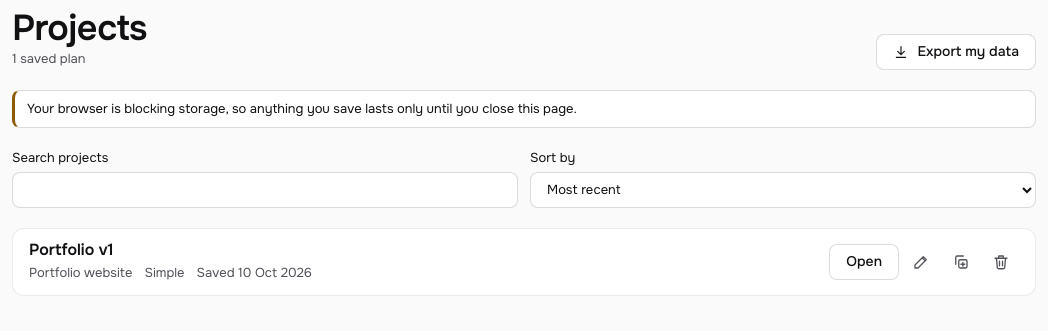
Test: Projects page › cancels a rename with Escape
Expected: the link "Portfolio v1" is shown, top-left (29, 239), bottom-right (114, 260)
Click the button named "Rename Portfolio v1": (921,262) top-left (903, 244), bottom-right (939, 280)
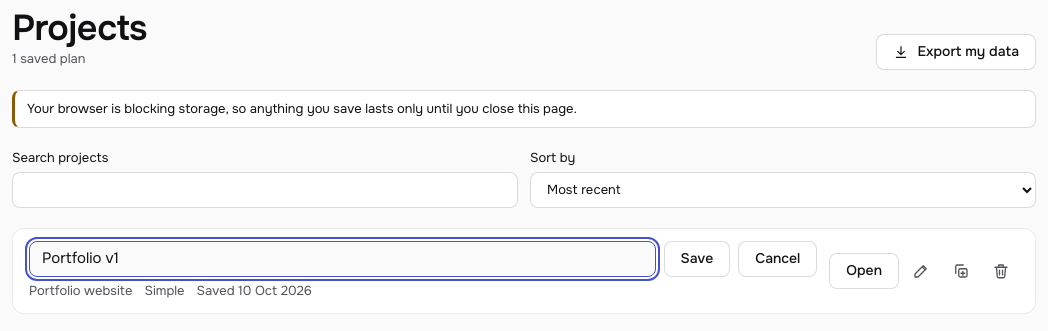
In the field named "Plan name": (342,259) top-left (29, 241), bottom-right (656, 277), type " extra"
Then press Escape
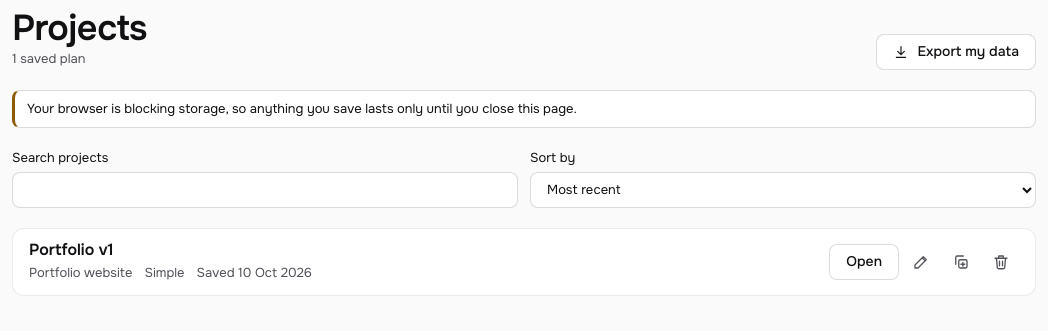
Expected: the field labelled "Plan name" is not shown
Expected: the link "Portfolio v1" is shown, top-left (29, 239), bottom-right (114, 260)
